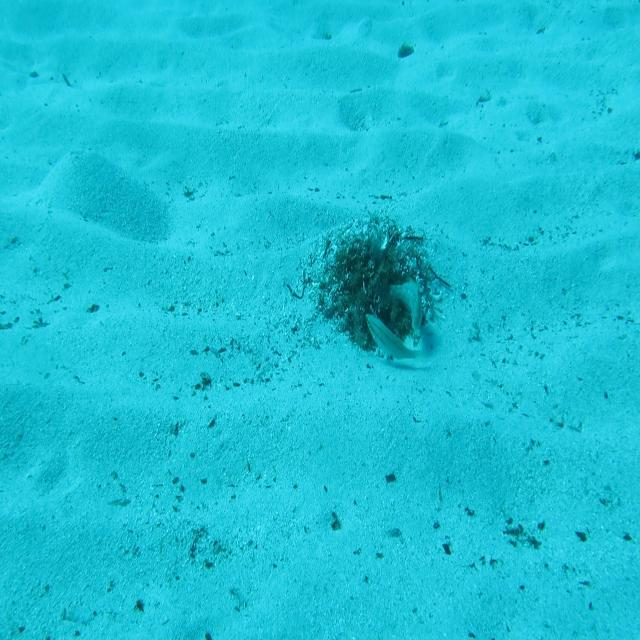DAN_CIRC: (378, 274, 423, 334)
female: (364, 310, 425, 368)
nest: (315, 214, 443, 353)
